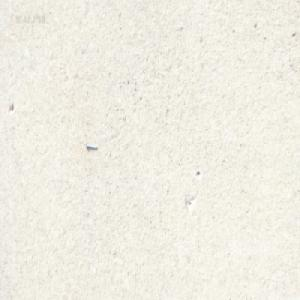Nail: (84, 141, 98, 149)
